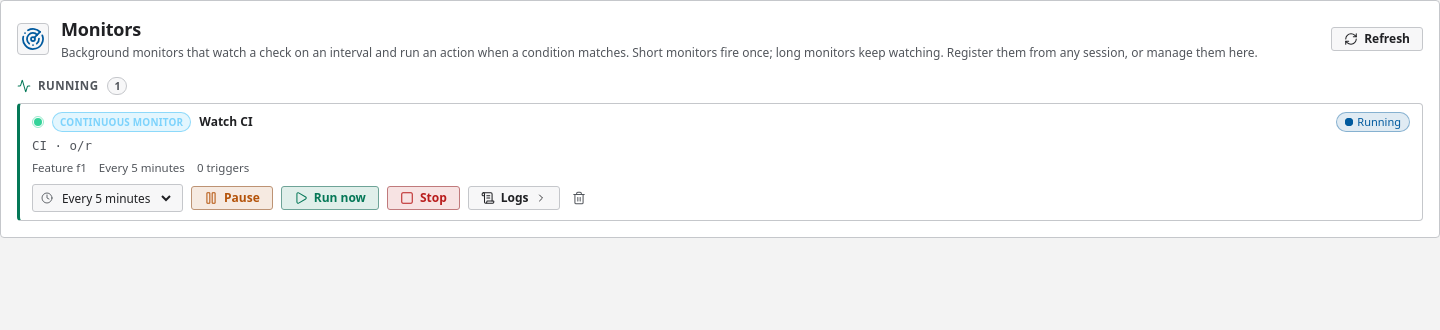
it: AutomationsView › renders queued and uncertain run phases truthfully in the logs
This screenshot has width=1440, height=330.
Expected: the text "Watch CI" is shown, [199,113,253,130]
Click the button "Logs" at {"x": 514, "y": 198}, box [468,186,560,210]
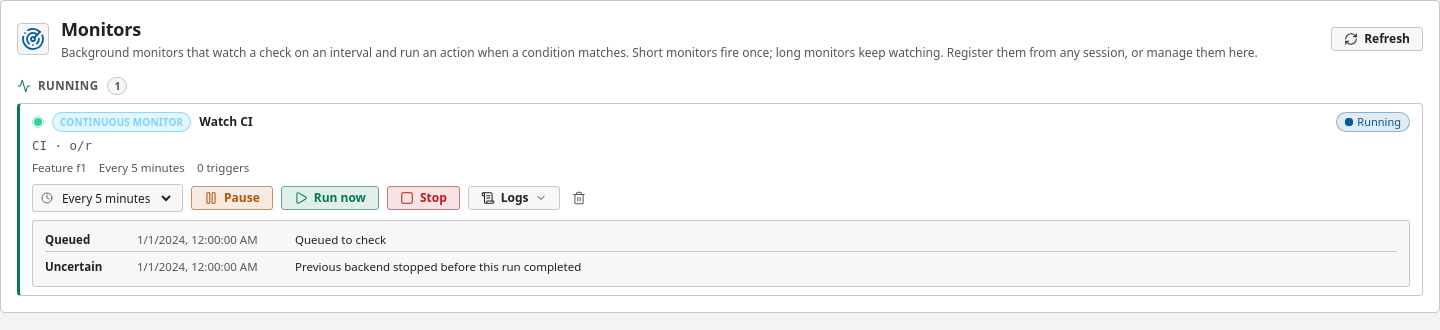
Expected: the text "Queued" is shown, [45,232,90,247]
Expected: the text "Uncertain" is shown, [45,259,102,274]
Expected: the text "Previous backend stopped before this run completed" is shown, [295,259,581,274]
